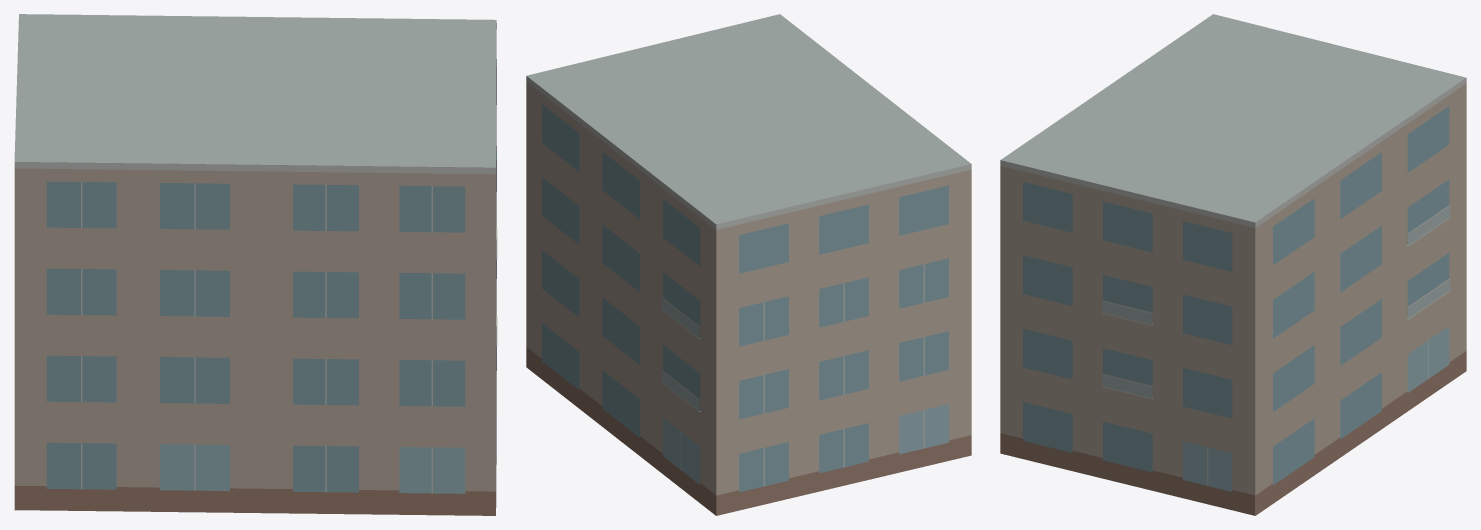
File: survey-upis-32904294.glb
The picture shows the model from 3 angles, left to right: view 1: azimuth 30°, elevation 25°; view 2: azimuth 150°, elevation 25°; view 3: azimuth 270°, elevation 25°; orthographic projection. The views are drawn at different scales.
Visible parts, largest first — view 1: survey-upis-32904294.tmp; view 2: survey-upis-32904294.tmp; view 3: survey-upis-32904294.tmp.
Part boxes in pixels (x1,y1,x2,y2): survey-upis-32904294.tmp: (14, 14, 497, 515); survey-upis-32904294.tmp: (526, 14, 971, 515); survey-upis-32904294.tmp: (1000, 14, 1466, 515).
Bounding box in the file's own units: 19.52 × 12.8 × 18.44.
